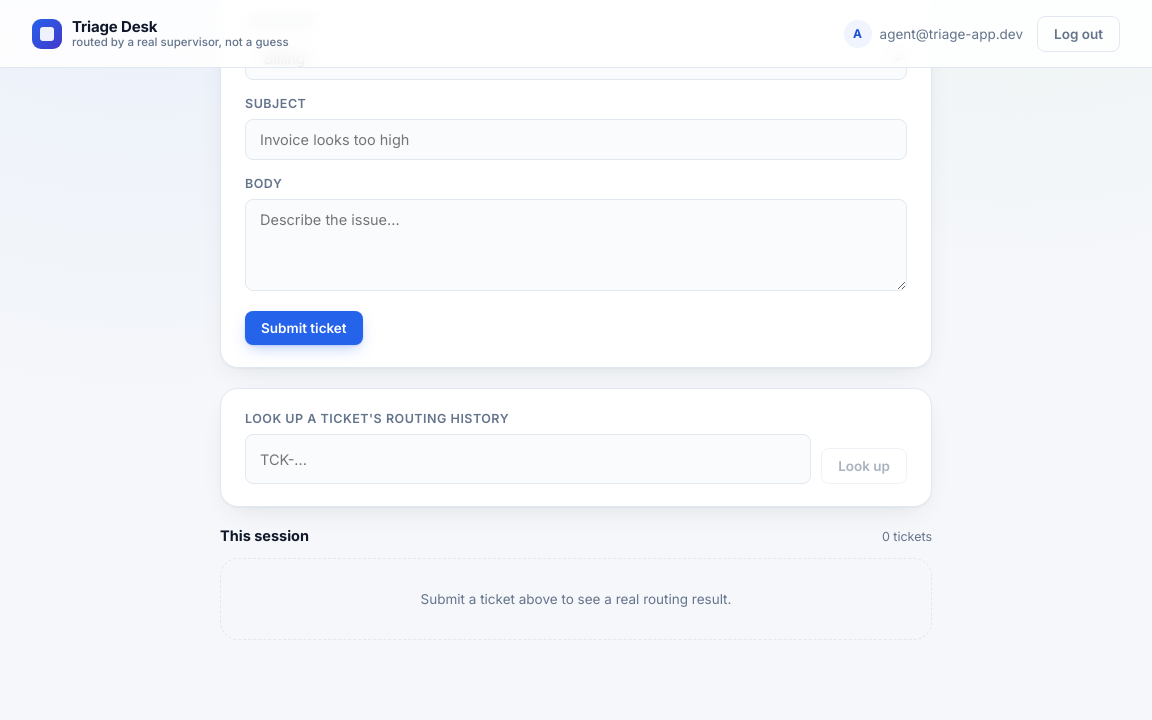
it: Dashboard › looks up an existing ticket by id and shows its stored resolution
The image size is (1152, 720).
(page scrolled)
Type "TCK-2" into the field labelled "Look up a ticket's routing history" at coordinates (528, 459), box [245,434,811,484]
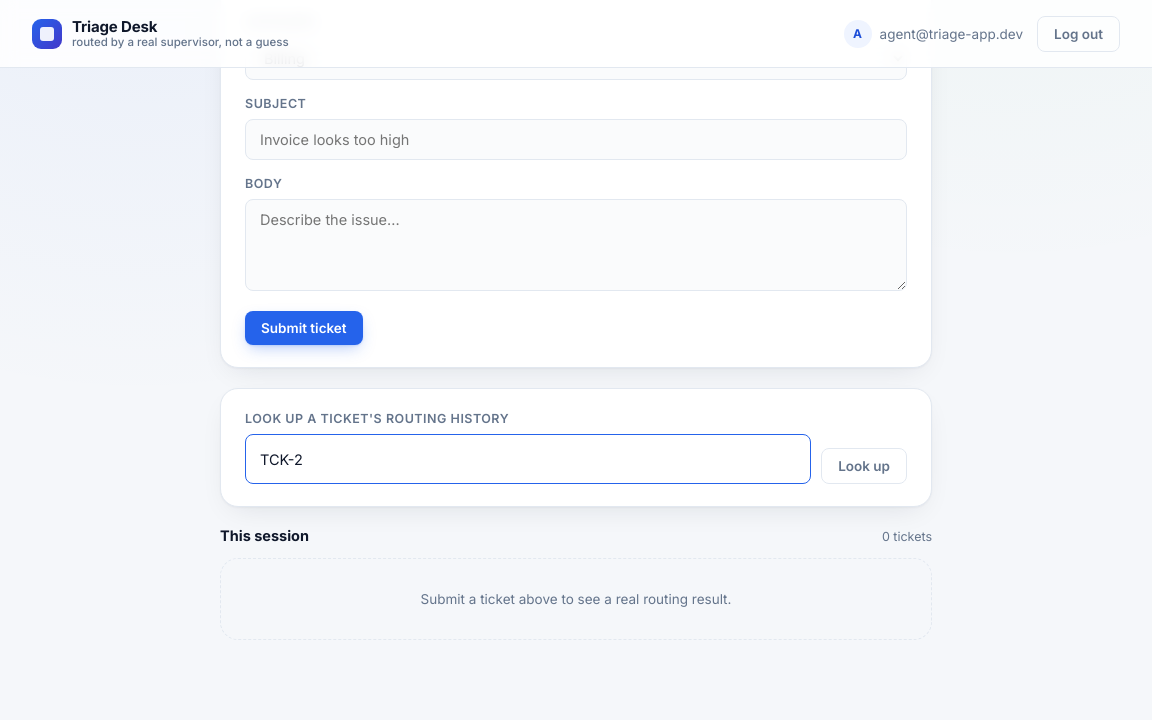
Click the button "Look up" at coordinates (864, 466), box [821,448,907,484]
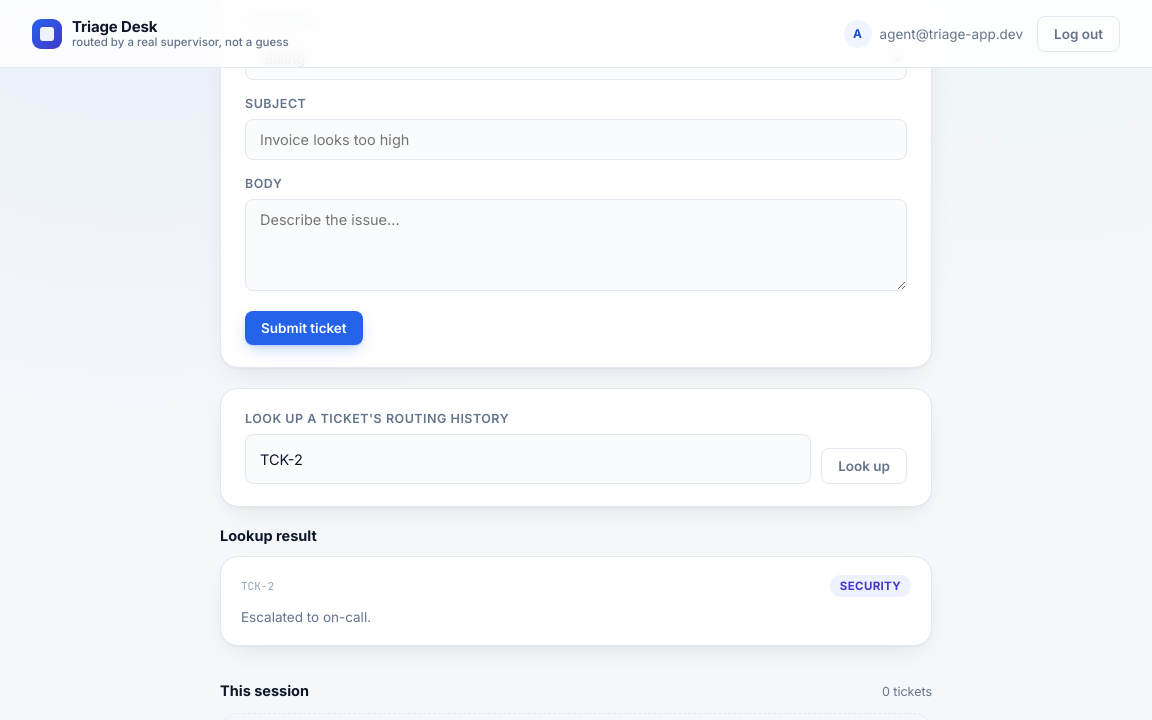
expect the text "Escalated to on-call." is shown: met, box [241,609,371,625]
